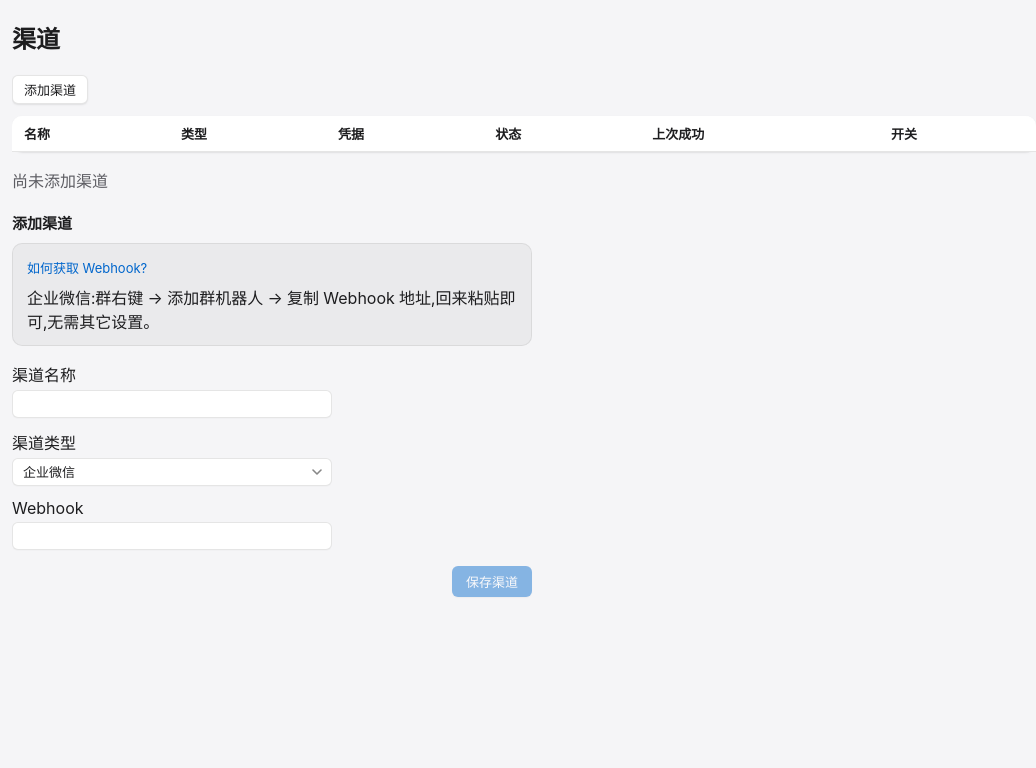
Test case: unofficial hosts surface the backend validation error without storing anything
Expected: the field labelled "Webhook" is shown, x1=12 y1=522 x2=332 y2=550
Type "坏地址" into the field labelled "渠道名称". click: (172, 404)
box: x1=12 y1=390 x2=332 y2=418
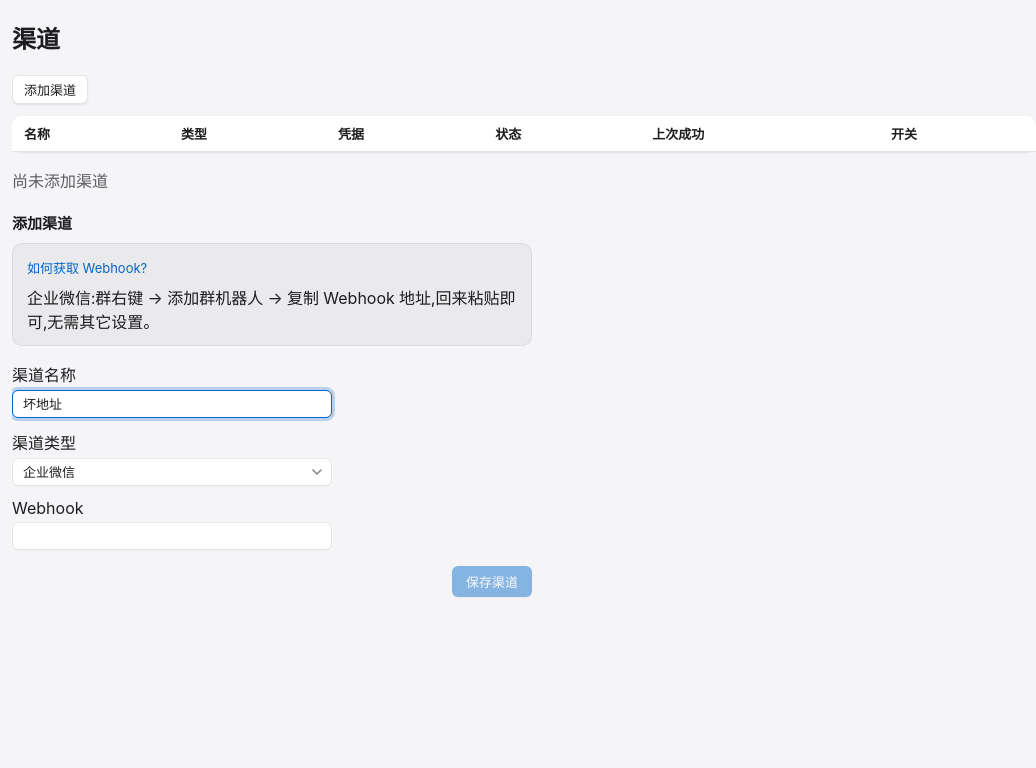
Type "https://example.com/hook" into the field labelled "Webhook". click: (172, 536)
box: x1=12 y1=522 x2=332 y2=550
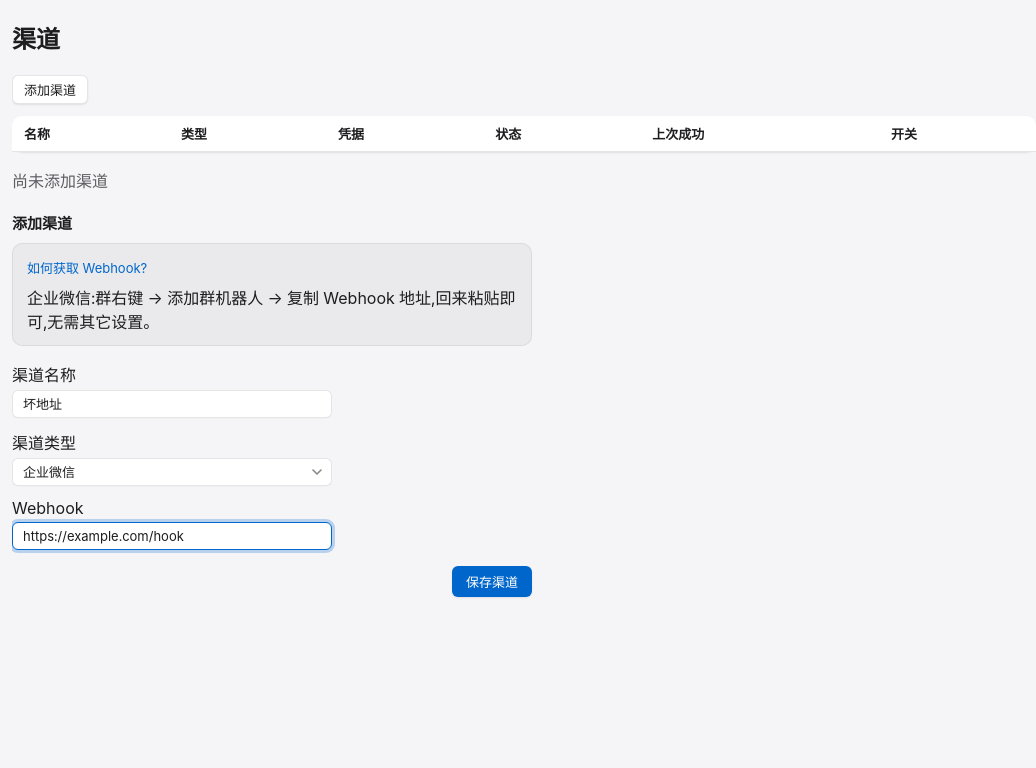
Click the button "保存渠道". click: (492, 581)
box: x1=452 y1=566 x2=532 y2=597
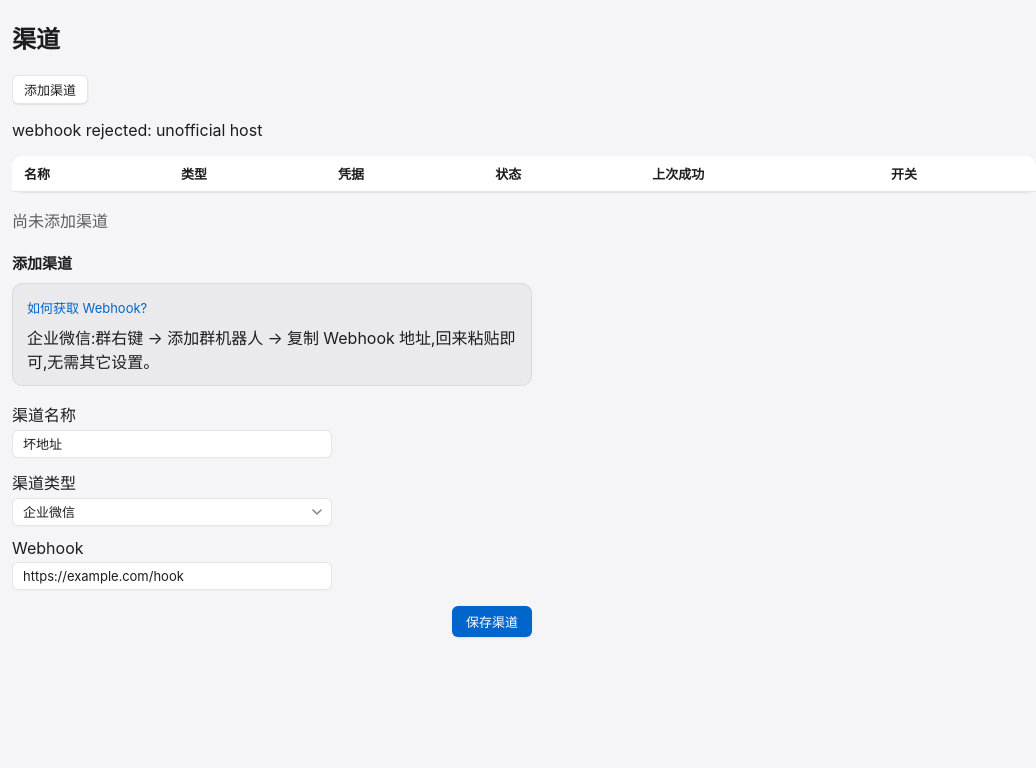
Now the message shows "webhook rejected", box x1=12 y1=120 x2=262 y2=140
